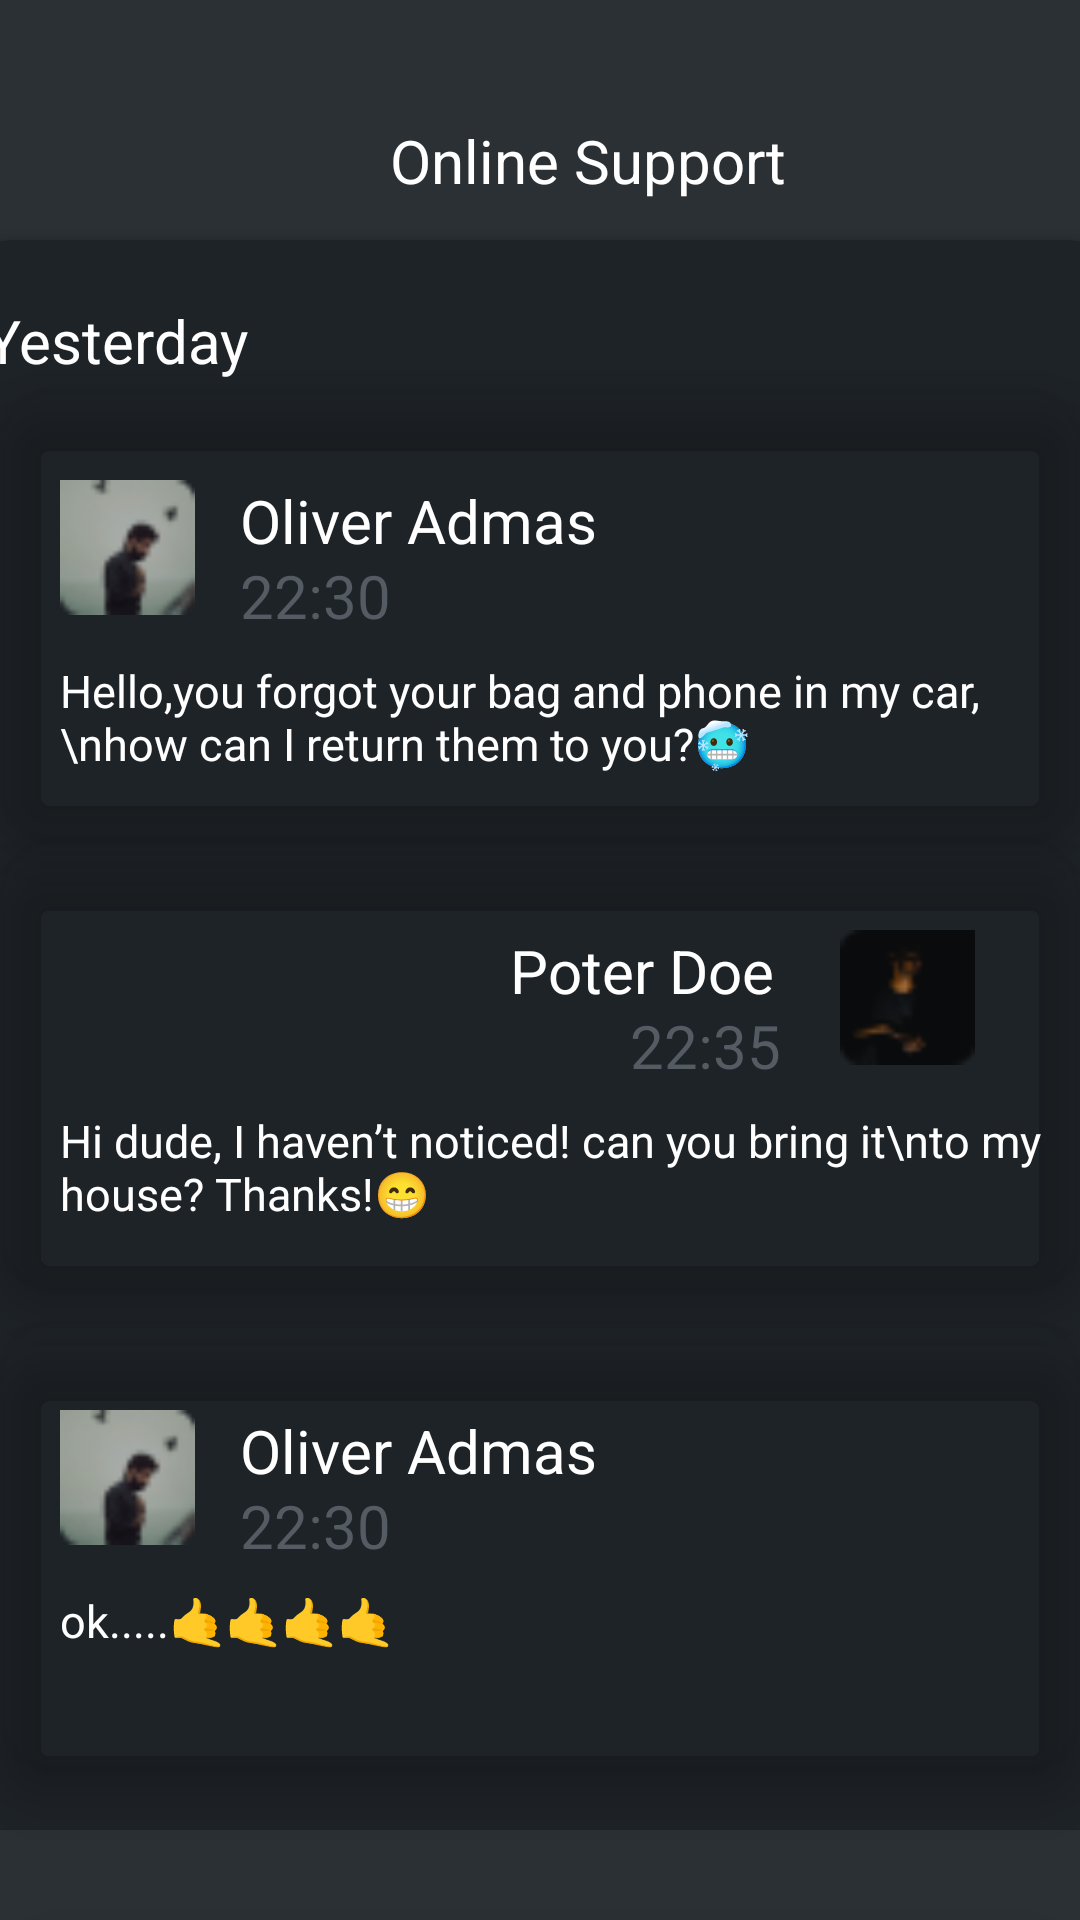

Screen size 1080×1920. Icon name, then its box in pixels as (x1, y1, x2, y2):
user: (60, 480, 195, 615), (840, 930, 975, 1065), (60, 1410, 195, 1545)
